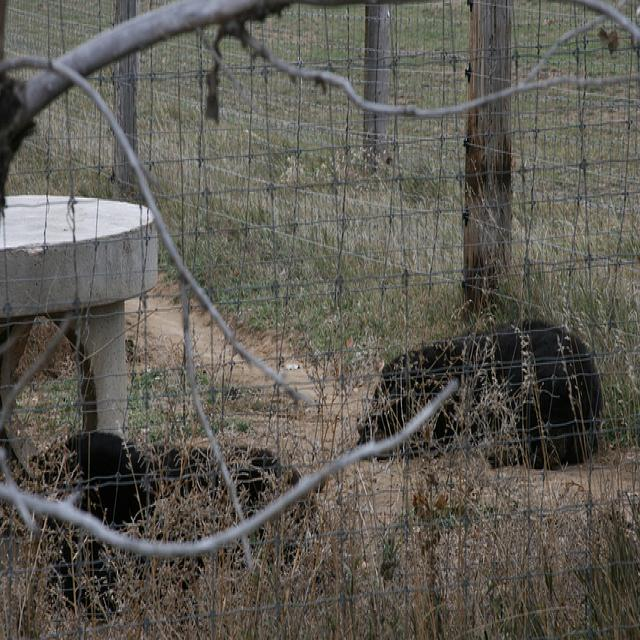Bear: (22, 418, 312, 608), (356, 312, 612, 472)
